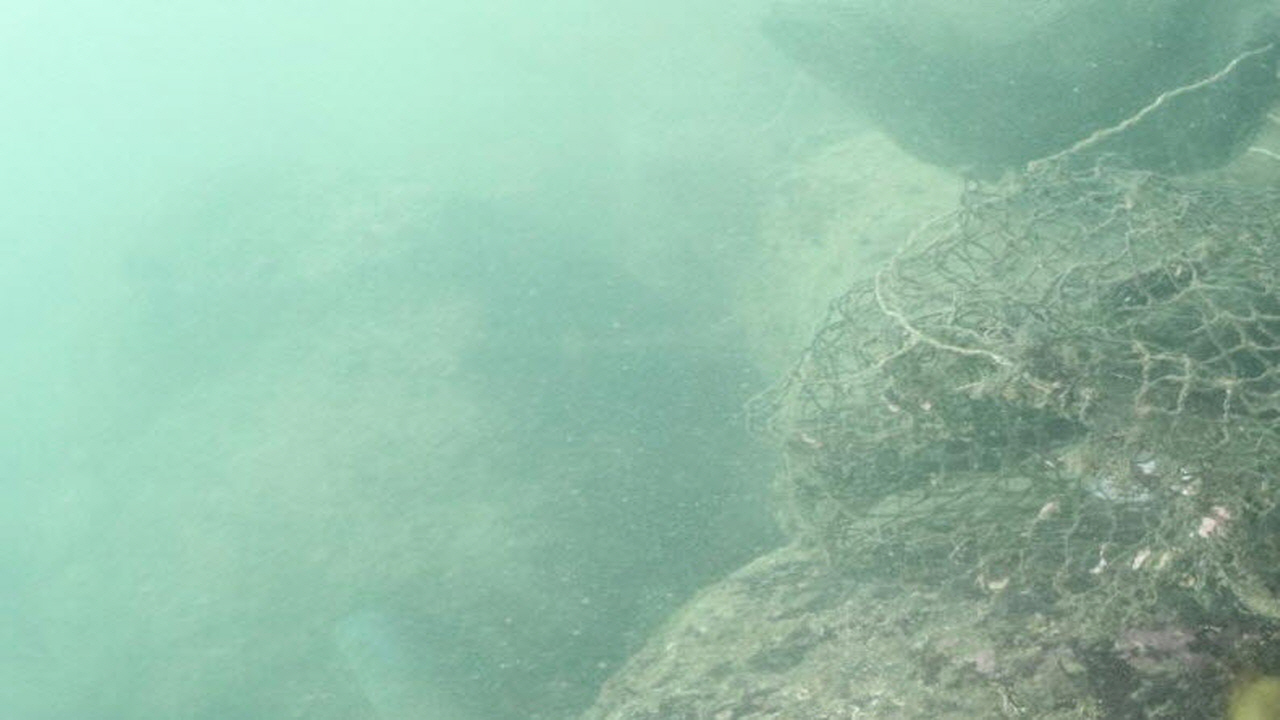fish net: (738, 147, 1280, 610)
